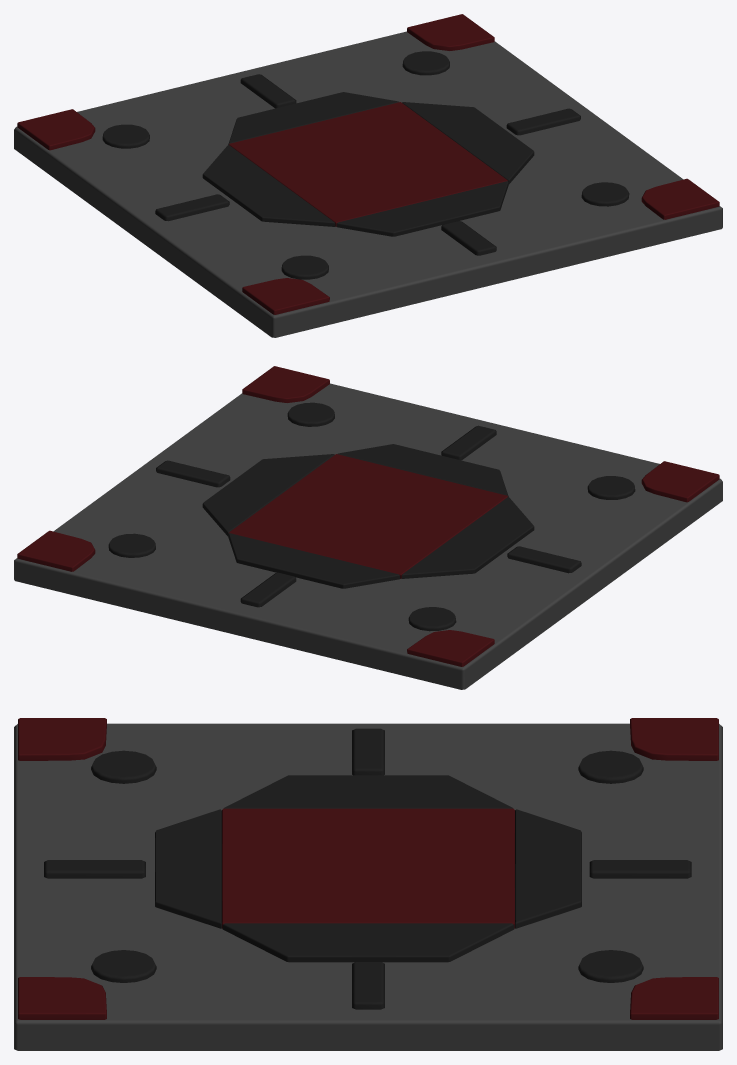
Rendered from colony_Tile_track1.glb.
The picture shows the model from 3 angles, top to bottom: view 1: azimuth 30°, elevation 25°; view 2: azimuth 150°, elevation 25°; view 3: azimuth 270°, elevation 25°; orthographic projection. The views are drawn at different scales.
Visible parts, largest first — view 1: Tile_track1; view 2: Tile_track1; view 3: Tile_track1.
Part boxes in pixels (x1,y1,x2,y2): Tile_track1: (14, 14, 722, 337); Tile_track1: (14, 366, 722, 689); Tile_track1: (14, 718, 722, 1050).
Bounding box in the file's own units: 180 × 10 × 180.
1 material, 1 textured.
